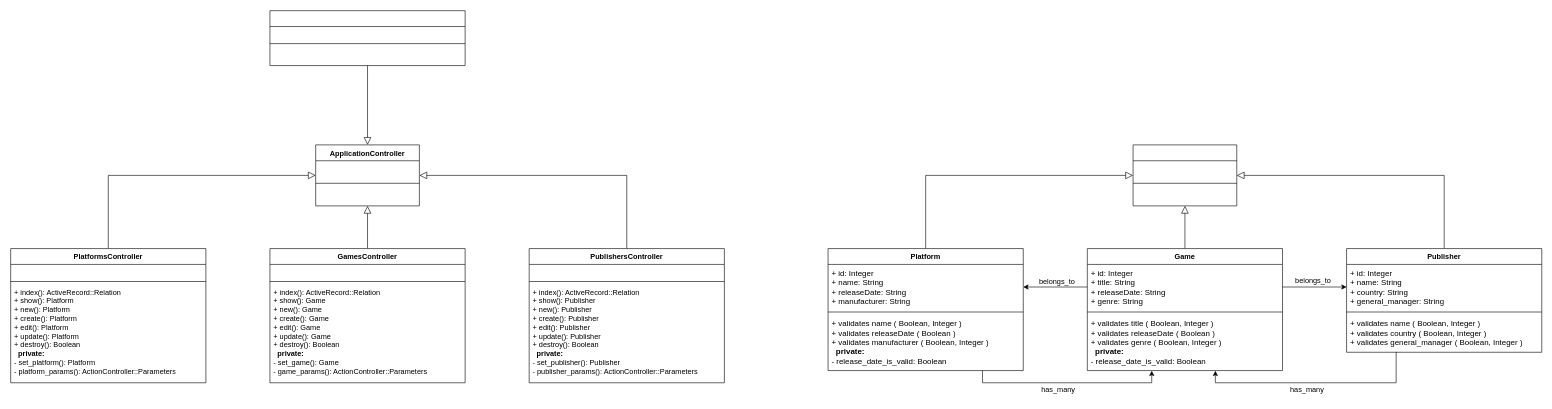
The diagram is 1552 pixels wide and 409 high, and some of its shapes have lost their labels. The centre of each missing label's shape, as x and y in pixels:
"ApplicationRecord" goes at (x=1184, y=175).
"HomeController" goes at (x=367, y=38).
